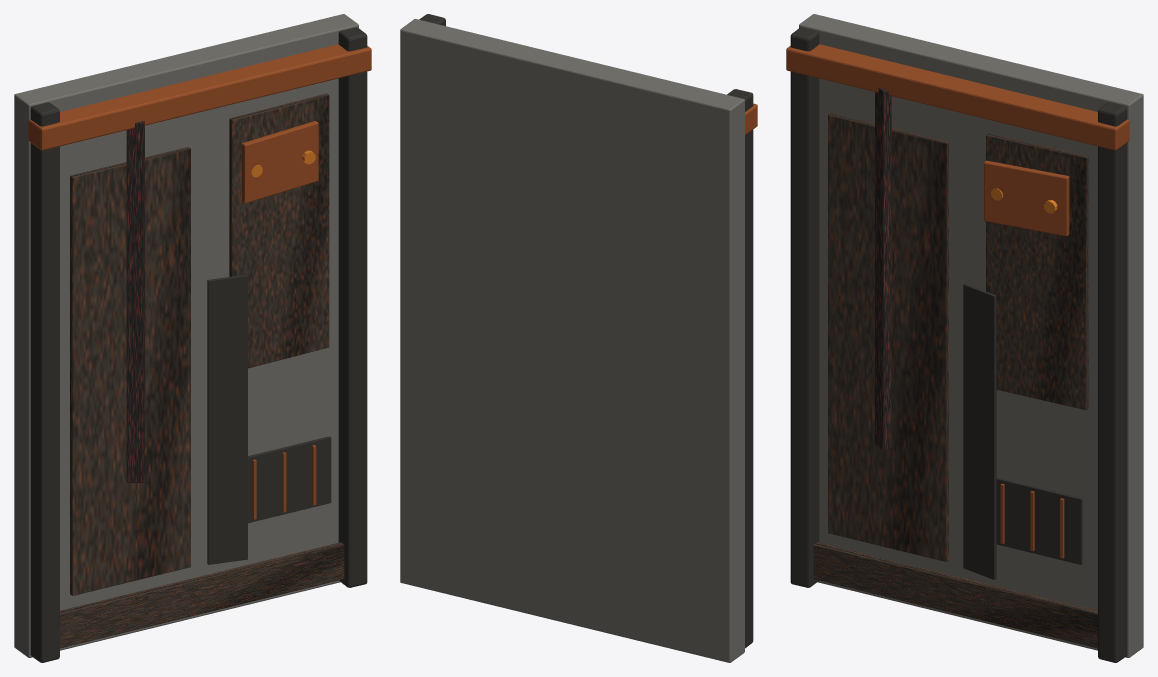
The model's file is rugged_basement_wall_c.glb.
3 renders of one model, left to right at view 1: azimuth 30°, elevation 25°; view 2: azimuth 150°, elevation 25°; view 3: azimuth 330°, elevation 25°, orthographic.
Parts seen in each view (by area): view 1: Broken concrete backing, Masonry patch left, Masonry patch right, Left uneven upright, Right uneven upright, Dark broken seam, Salvaged lintel, Damp floor skirt, Angled brace, Mesh vent void, Fresh bolt-on patch; view 2: Broken concrete backing, Left uneven upright; view 3: Broken concrete backing, Masonry patch left, Masonry patch right, Right uneven upright, Left uneven upright, Salvaged lintel, Damp floor skirt, Dark broken seam, Angled brace, Mesh vent void, Fresh bolt-on patch.
Part boxes in pixels (x1=…): Broken concrete backing: x1=14, y1=14, x2=358, y2=657; Masonry patch left: x1=70, y1=147, x2=190, y2=595; Masonry patch right: x1=229, y1=93, x2=329, y2=368; Left uneven upright: x1=30, y1=102, x2=59, y2=662; Right uneven upright: x1=338, y1=27, x2=367, y2=587; Dark broken seam: x1=207, y1=274, x2=247, y2=564; Salvaged lintel: x1=28, y1=44, x2=371, y2=150; Damp floor skirt: x1=60, y1=542, x2=344, y2=648; Angled brace: x1=126, y1=120, x2=144, y2=482; Mesh vent void: x1=248, y1=436, x2=331, y2=523; Fresh bolt-on patch: x1=241, y1=121, x2=318, y2=203; Broken concrete backing: x1=400, y1=19, x2=744, y2=662; Left uneven upright: x1=727, y1=89, x2=753, y2=648; Broken concrete backing: x1=799, y1=14, x2=1143, y2=657; Masonry patch left: x1=828, y1=113, x2=948, y2=561; Masonry patch right: x1=986, y1=133, x2=1088, y2=409; Right uneven upright: x1=1098, y1=102, x2=1127, y2=662; Left uneven upright: x1=790, y1=27, x2=819, y2=587; Salvaged lintel: x1=786, y1=44, x2=1129, y2=150; Damp floor skirt: x1=813, y1=542, x2=1097, y2=648; Dark broken seam: x1=963, y1=283, x2=996, y2=579; Angled brace: x1=875, y1=88, x2=891, y2=450; Mesh vent void: x1=996, y1=477, x2=1082, y2=564; Fresh bolt-on patch: x1=984, y1=160, x2=1069, y2=236.
Size of the model in its own units: 2 by 3.2 by 0.3214.
Materials: 6 (2 with a texture image).
